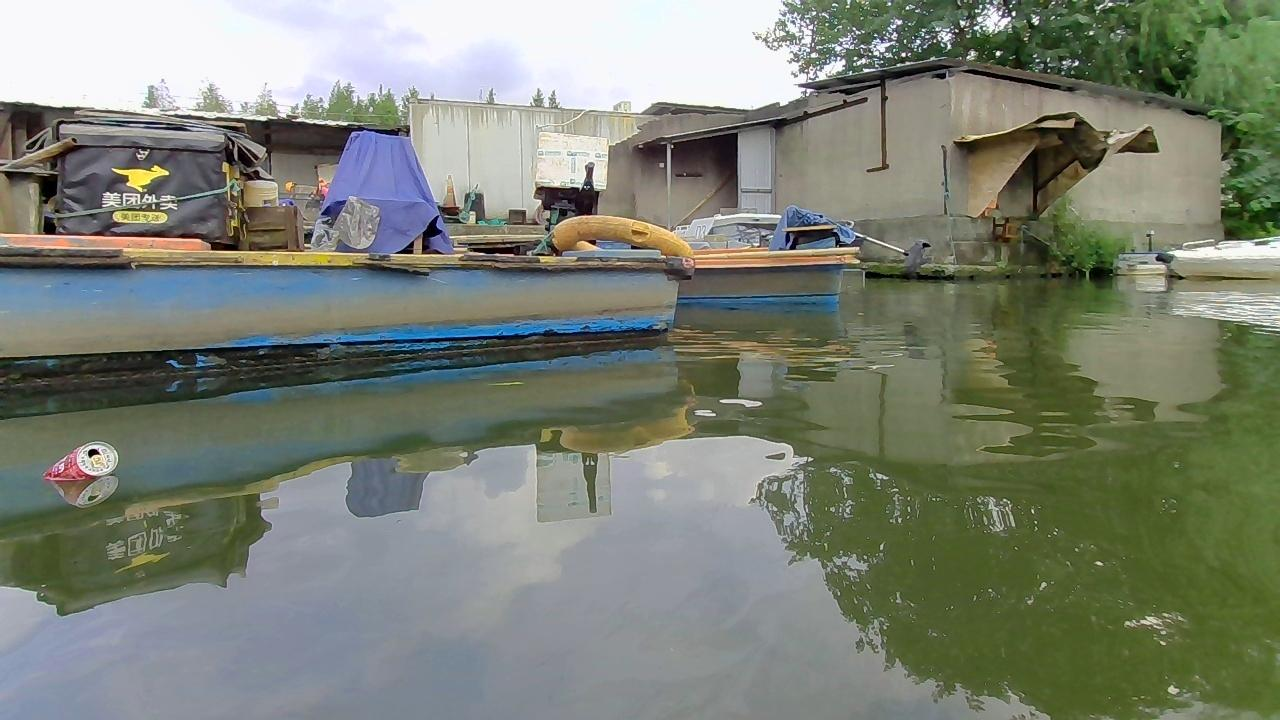Metal: (41, 440, 121, 481)
